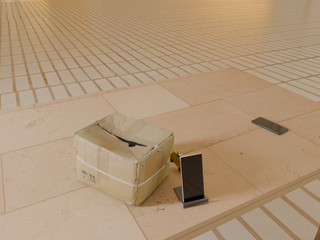box: (73, 113, 174, 206)
phone: (180, 153, 204, 202), (252, 117, 288, 135)
toy_car: (170, 150, 184, 171)
